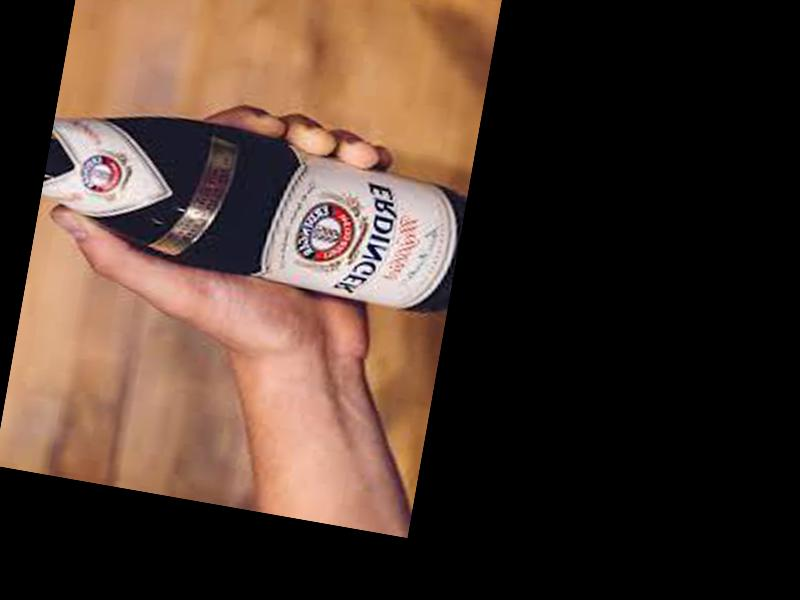Beer: (36, 97, 472, 319)
